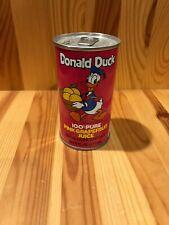metal: (53, 33, 121, 150)
